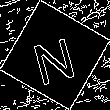N_N: (29, 25, 81, 85)
